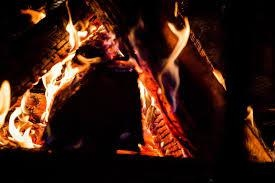fire: (7, 11, 195, 154), (116, 8, 201, 158), (242, 103, 275, 163), (211, 66, 228, 91), (21, 4, 44, 22)
